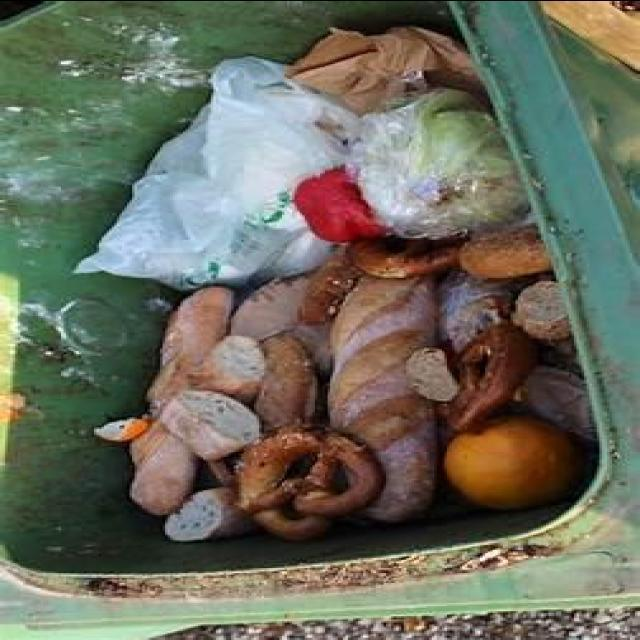Garbage: (75, 26, 595, 540)
Plastic_Bag: (75, 56, 359, 289), (346, 87, 528, 238)
